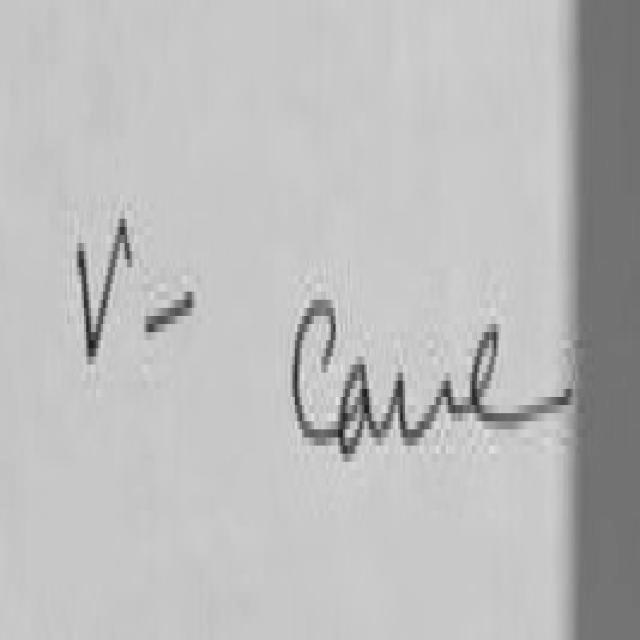C: (291, 298, 336, 449)
V: (77, 219, 132, 352)
a: (340, 365, 381, 454)
e: (473, 324, 575, 434)
v: (396, 373, 442, 446)
